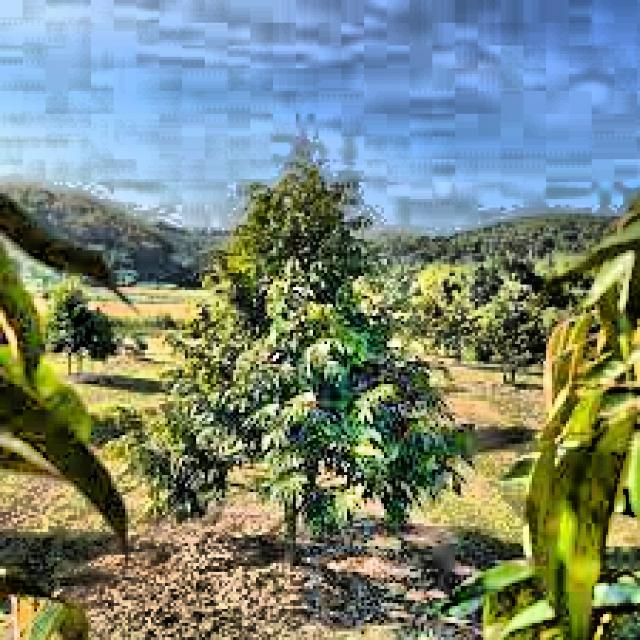arvore: (268, 400, 320, 570)
